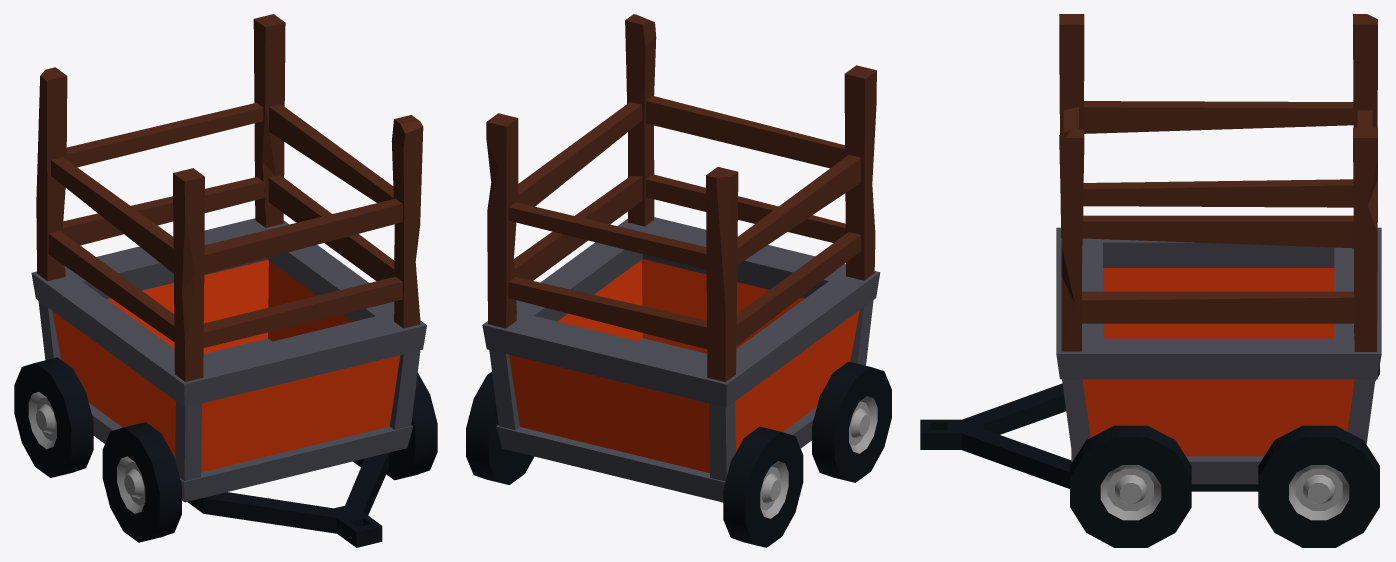
The model's file is Trailer_2.fbx.
3 renders of one model, left to right at view 1: azimuth 30°, elevation 25°; view 2: azimuth 150°, elevation 25°; view 3: azimuth 270°, elevation 25°, orthographic. The views are drawn at different scales.
Parts seen in each view (by area): view 1: Trailer_2; view 2: Trailer_2; view 3: Trailer_2.
Boxes of the visible parts, bbox=[...] form: Trailer_2: bbox=[14, 14, 437, 547]; Trailer_2: bbox=[466, 14, 891, 547]; Trailer_2: bbox=[920, 14, 1381, 547].
Bounding box in the file's own units: 61.77 × 78.79 × 82.43.
